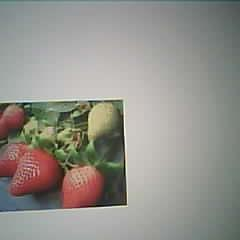straw-ripe: (9, 148, 59, 195), (62, 167, 101, 208)
straw-unripe: (88, 103, 122, 138)
